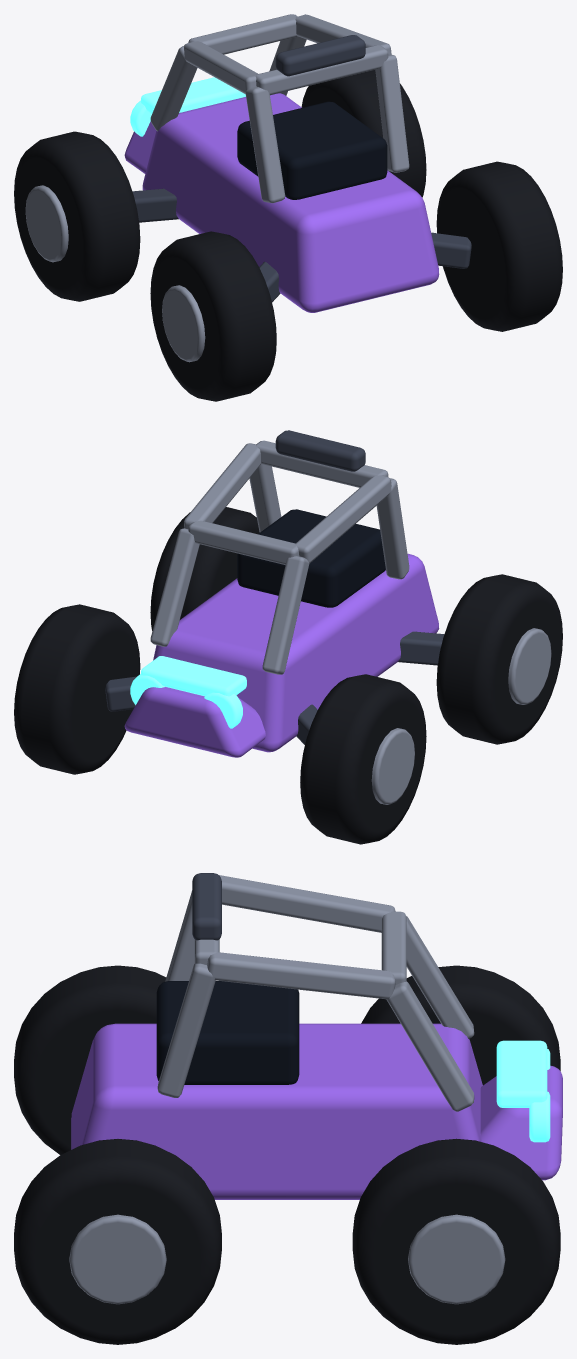
Rendered from robot-3.glb.
3 views of the same model, one above another, from view 1: azimuth 30°, elevation 25°; view 2: azimuth 150°, elevation 25°; view 3: azimuth 270°, elevation 25° (orthographic). The views are drawn at different scales.
Visible parts, largest first — view 1: spine, wheel.002, wheel, wheel.001, seat, wheel.003, hoop_up, hoop_up.001, hubcap, hubcap.001, hoop_top, rollbar_pad (+9 smaller); view 2: spine, wheel.003, wheel.001, wheel, seat, prow, wheel.002, hoop_fwd, hoop_dn, hoop_dn.001, nosebar, hubcap.001 (+10 smaller); view 3: spine, wheel.003, wheel.002, wheel, seat, wheel.001, hubcap.003, hubcap.002, hoop_fwd.001, hoop_fwd, prow, hoop_dn.001 (+7 smaller).
Boxes of the visible parts, x1,y1,x2,y2 form: spine: (142,93,439,312); wheel.002: (436,161,562,331); wheel: (150,231,276,401); wheel.001: (14,131,140,301); seat: (237,101,387,199); wheel.003: (301,70,426,197); hoop_up: (245,86,285,203); hoop_up.001: (375,54,409,172); hubcap: (162,285,205,362); hubcap.001: (25,185,68,262); hoop_top: (255,45,388,95); rollbar_pad: (275,35,365,76); spine: (153,553,439,752); wheel.003: (14,604,140,774); wheel.001: (300,674,426,844); wheel: (436,574,562,744); seat: (237,509,385,607); prow: (124,687,265,757); wheel.002: (150,507,259,630); hoop_fwd: (295,475,391,563); hoop_dn: (262,556,309,674); hoop_dn.001: (150,528,199,646); nosebar: (141,656,246,696); hubcap.001: (371,728,414,804); spine: (71,1023,482,1199); wheel.003: (352,1138,560,1344); wheel.002: (14,1139,221,1344); wheel: (14,965,166,1154); seat: (156,981,299,1084); wheel.001: (361,965,560,1085); hubcap.003: (408,1214,505,1304); hubcap.002: (69,1214,166,1304); hoop_fwd.001: (207,952,395,999); hoop_fwd: (219,875,395,932); prow: (480,1065,562,1180); hoop_dn.001: (386,981,474,1111).
Size of the model in its own units: 0.852 by 0.6575 by 0.924.
